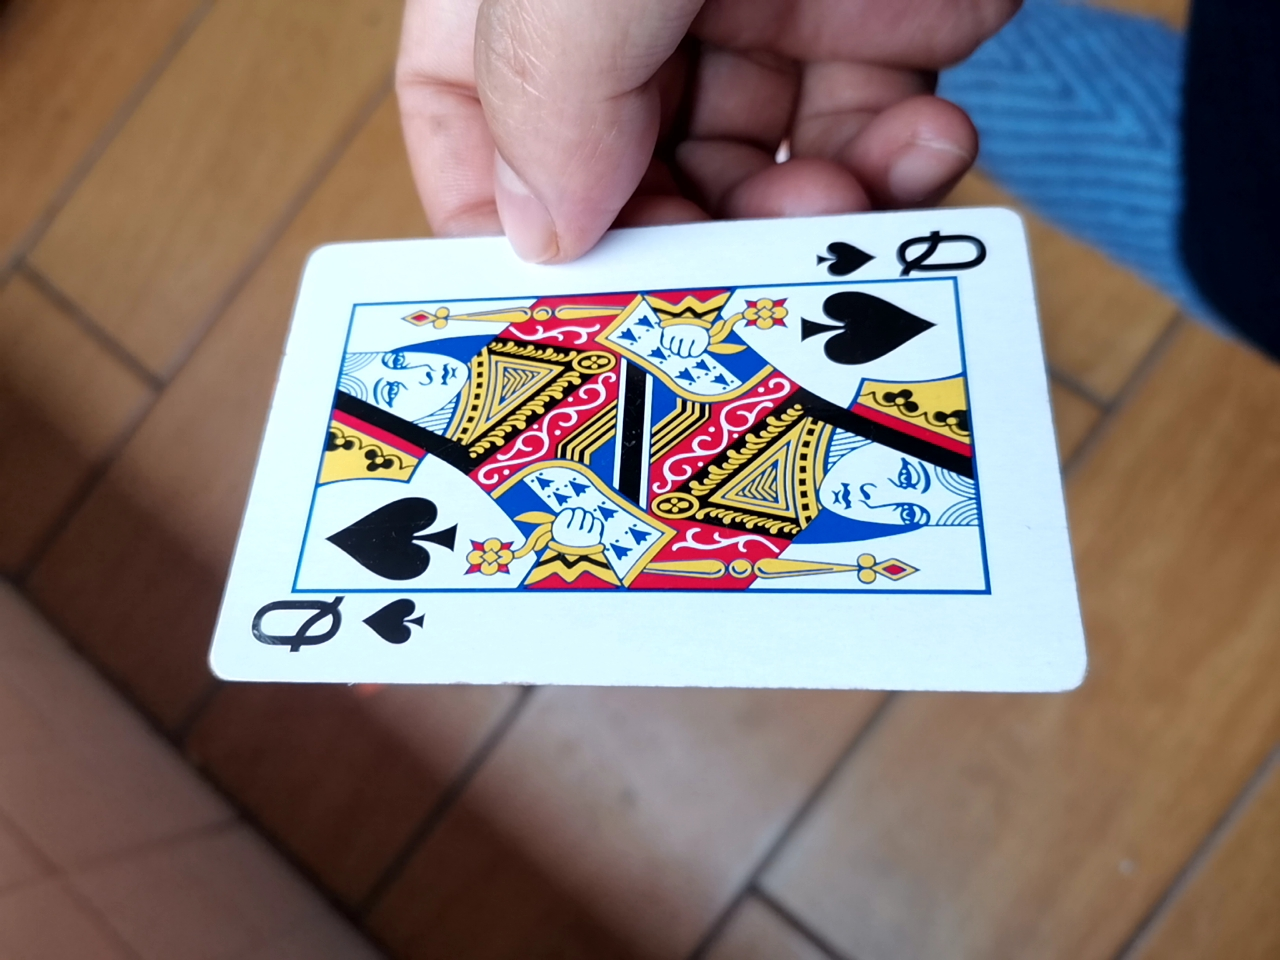ht q: (218, 194, 1089, 703)
